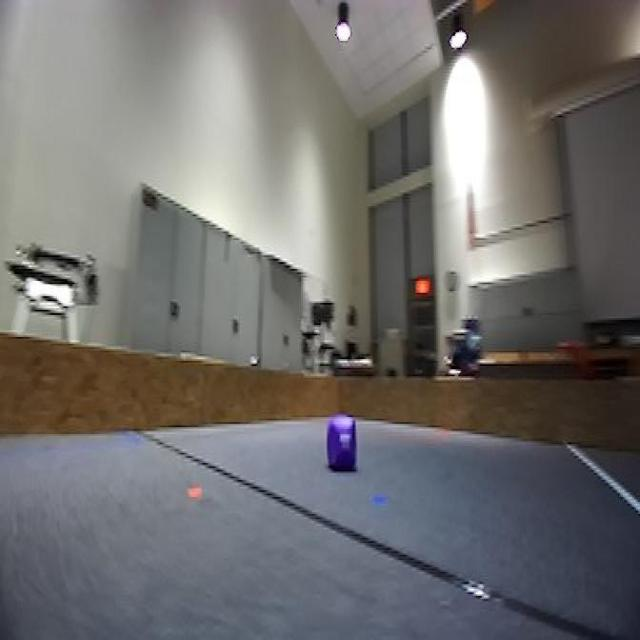frc_cube: (325, 417, 360, 475)
